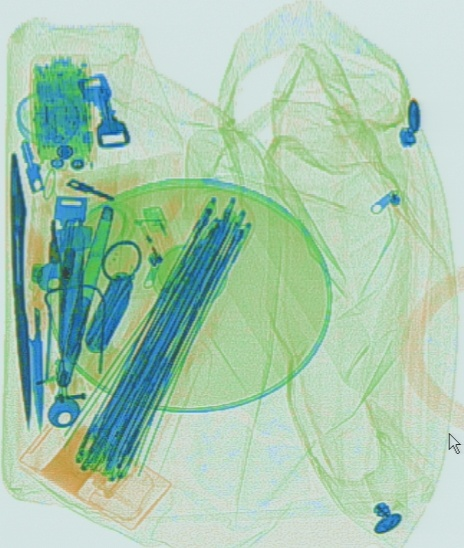knife: (7, 149, 32, 430), (22, 219, 46, 436), (82, 270, 134, 355)
lighter: (131, 203, 195, 310)
